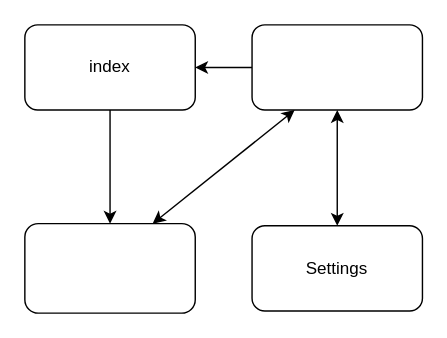
Image size: 447x338. Some labels were removed from this diagram. Each missing label, with the centre of its shape:
"Game" goes at point (109, 267).
"Results" goes at point (336, 66).
